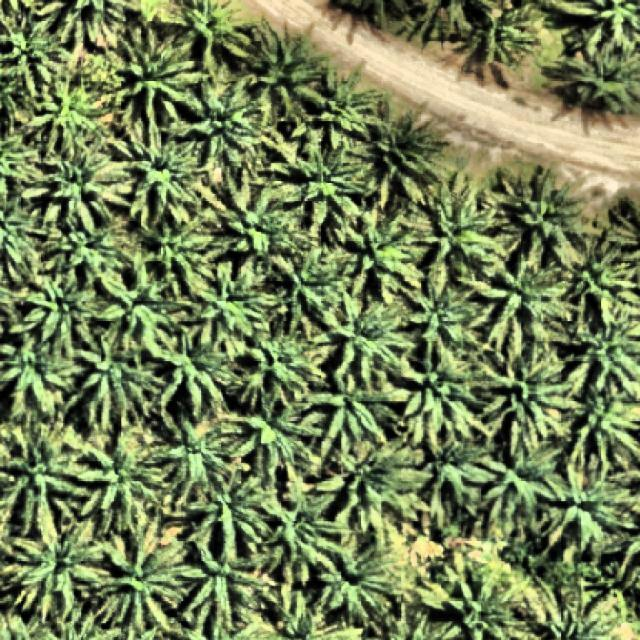Kelapa_Sawit: (474, 336, 586, 459), (294, 517, 412, 631), (526, 441, 640, 557), (385, 336, 493, 458), (310, 428, 433, 534), (255, 457, 352, 591), (487, 161, 595, 276), (195, 164, 298, 278), (88, 527, 196, 635), (466, 253, 579, 356), (61, 324, 168, 432), (230, 19, 338, 124), (352, 99, 454, 210), (22, 138, 136, 237), (182, 505, 270, 633), (106, 116, 202, 232), (179, 254, 284, 358), (114, 23, 214, 131), (74, 428, 170, 540), (284, 58, 398, 151), (309, 292, 417, 388), (271, 123, 367, 230), (183, 456, 280, 561), (92, 264, 196, 361), (311, 361, 411, 461), (150, 408, 248, 510), (414, 171, 509, 274), (150, 316, 242, 422), (232, 380, 326, 483), (180, 72, 272, 172), (476, 432, 570, 528), (238, 324, 330, 419), (336, 209, 427, 305), (262, 242, 347, 342), (18, 256, 102, 355), (42, 219, 136, 307), (28, 62, 110, 162), (561, 224, 640, 326), (416, 418, 498, 514), (130, 210, 216, 298), (400, 270, 478, 352)
